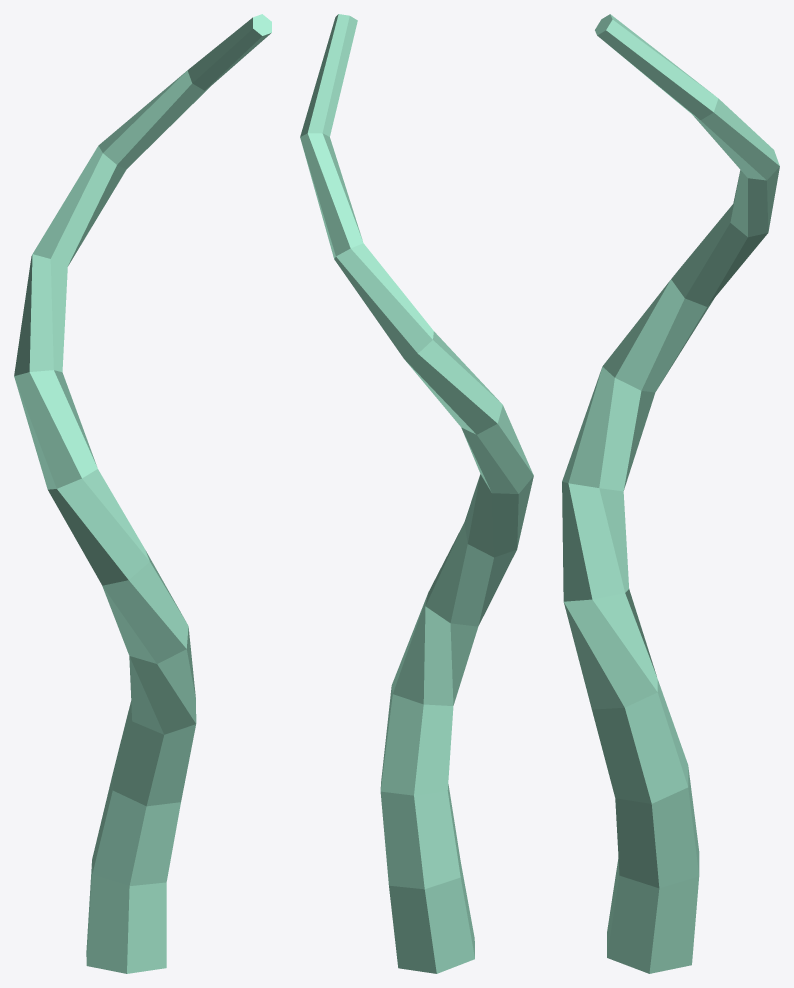
The model's file is flagellum.glb.
3 renders of one model, left to right at view 1: azimuth 30°, elevation 25°; view 2: azimuth 150°, elevation 25°; view 3: azimuth 270°, elevation 25°, orthographic. The views are drawn at different scales.
Parts seen in each view (by area): view 1: flagellum; view 2: flagellum; view 3: flagellum.
Boxes of the visible parts, bbox=[...] form: flagellum: bbox=[14, 14, 271, 973]; flagellum: bbox=[300, 14, 533, 973]; flagellum: bbox=[562, 14, 779, 973].
Size of the model in its own units: 0.1547 by 0.65 by 0.1288.
